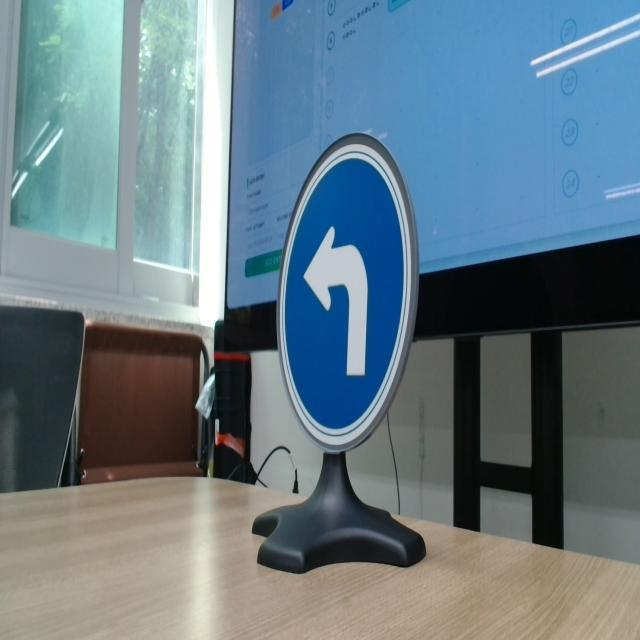left_direction: (269, 136, 419, 466)
